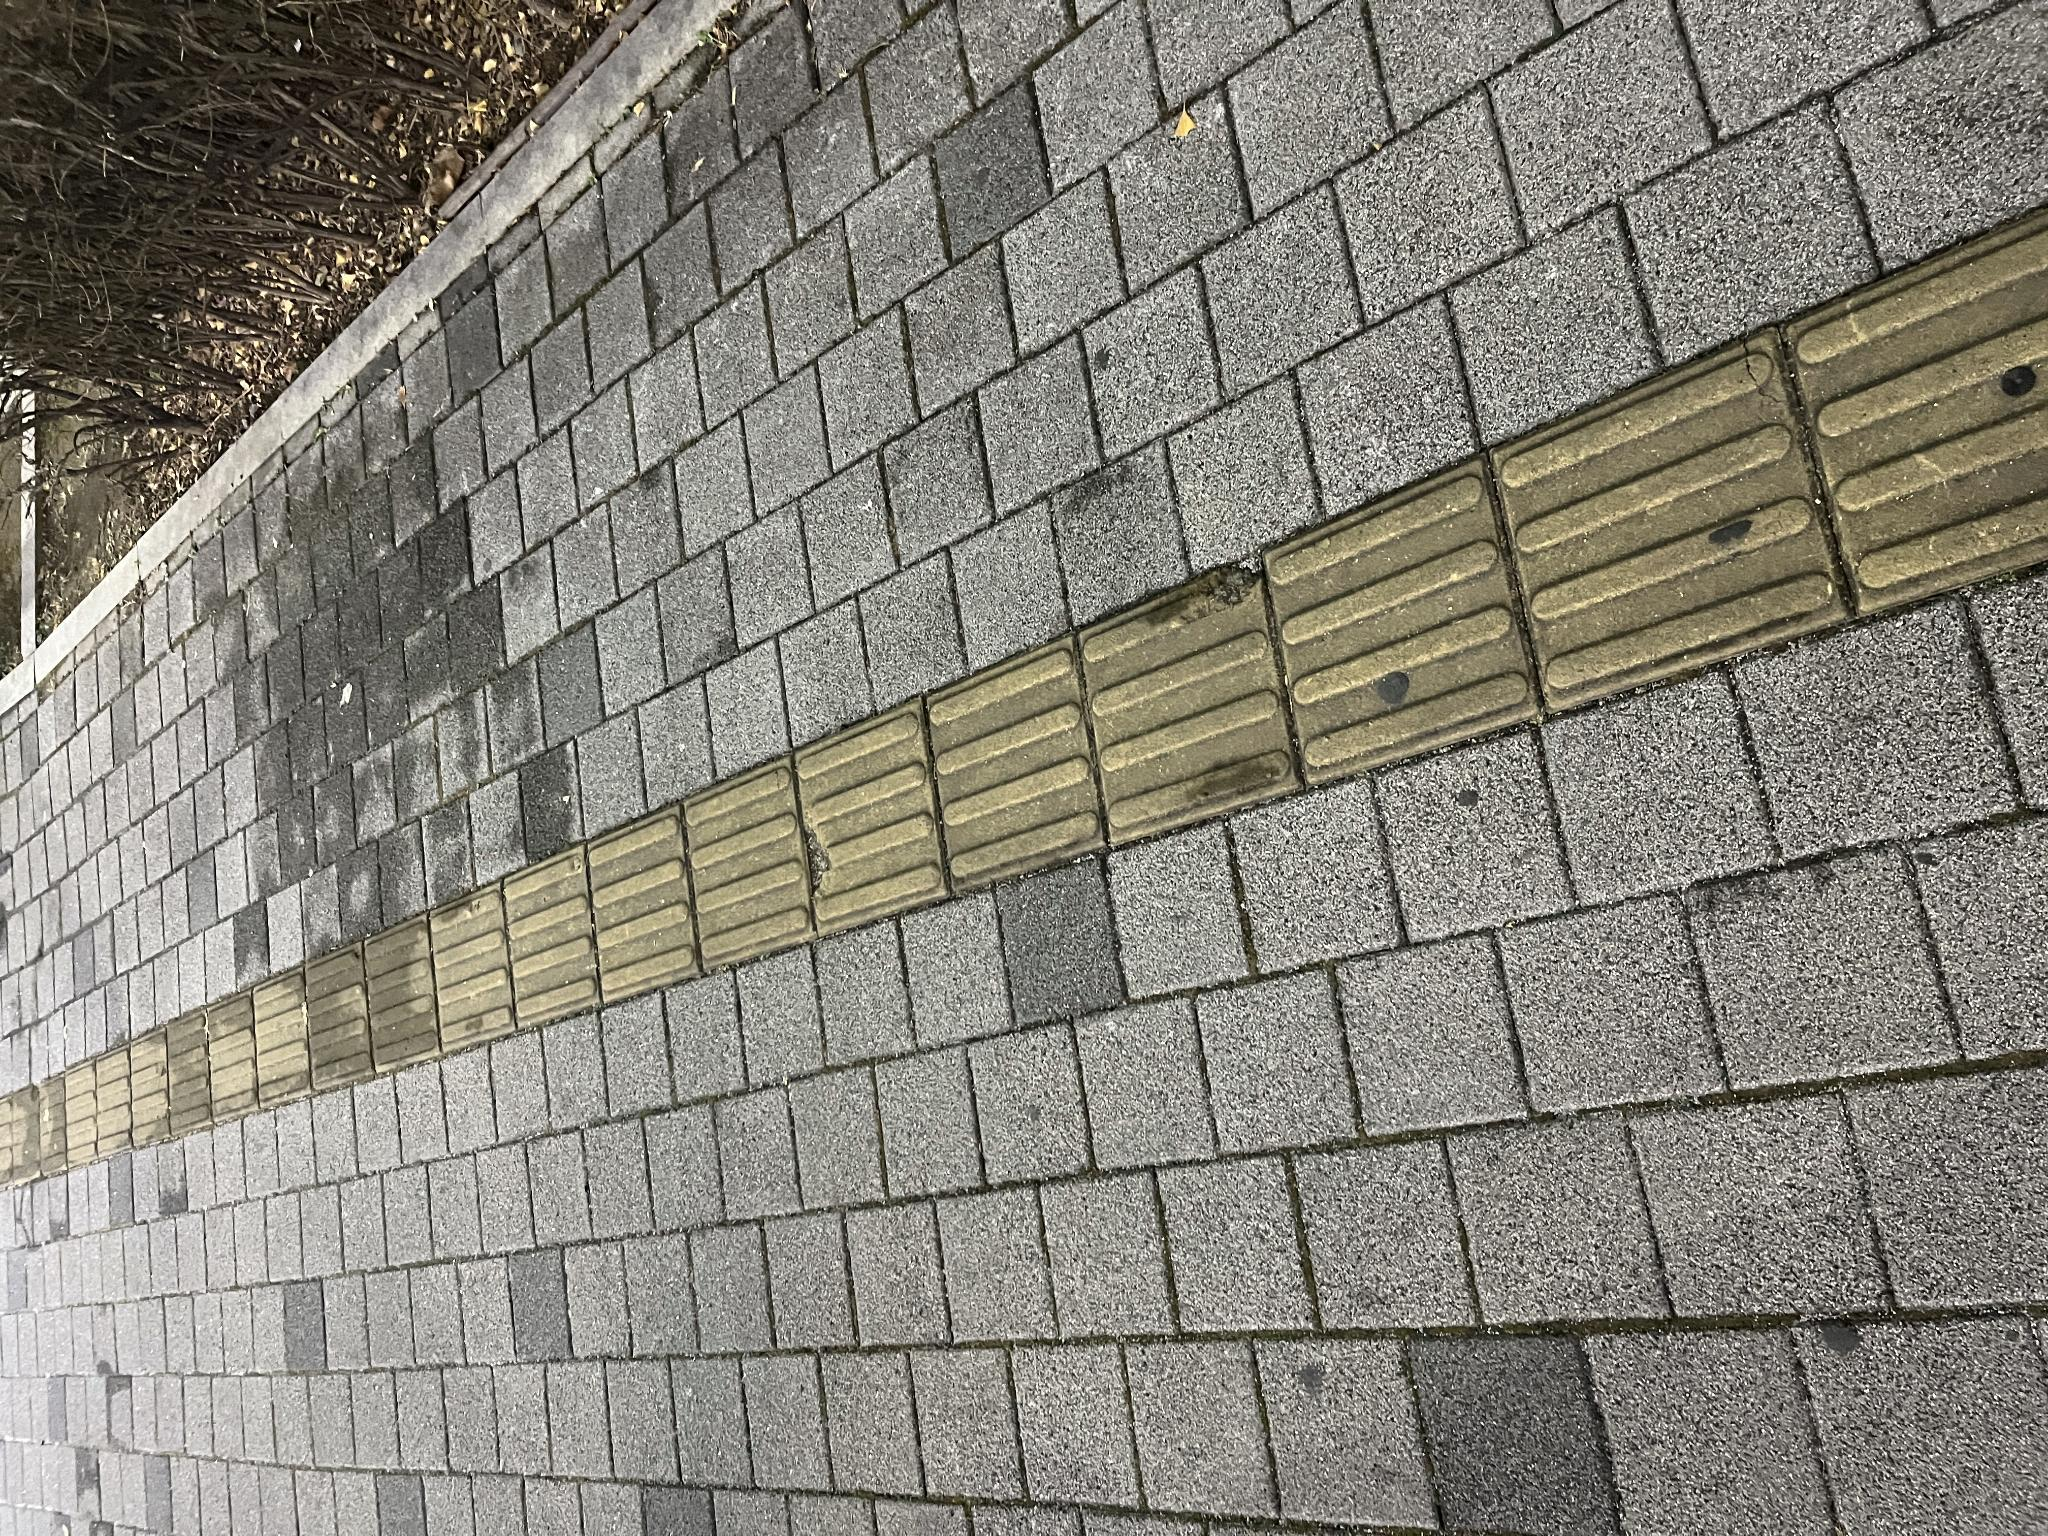Straight block broken: (693, 1078, 984, 1300), (598, 792, 839, 947), (508, 503, 690, 599), (485, 431, 655, 515)
Straight block normal: (751, 1265, 1077, 1536), (647, 926, 900, 1099), (568, 682, 780, 815), (534, 586, 732, 697)
